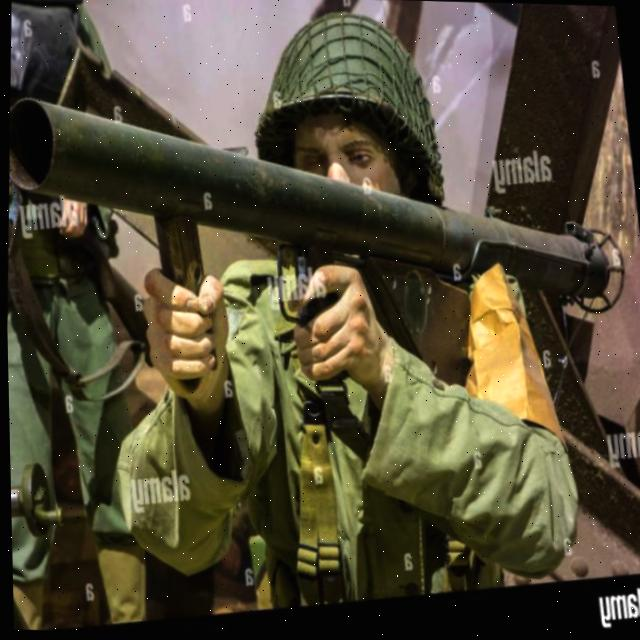rocket: (0, 18, 638, 387)
